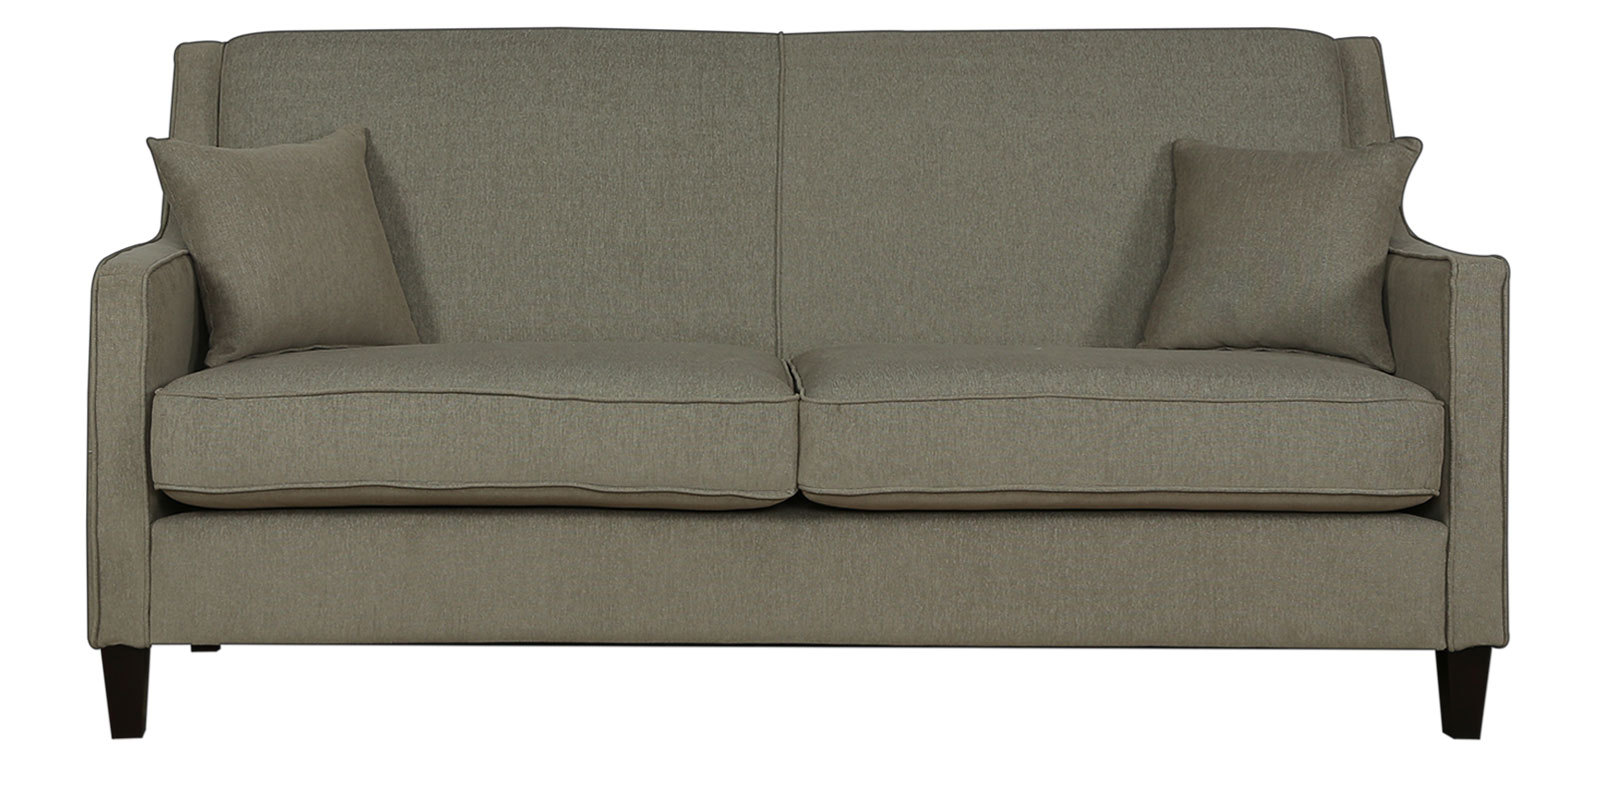Oscar Three Seater Sofa in Sandy Brown Colour by CasaCraft: (85, 24, 1511, 739)
